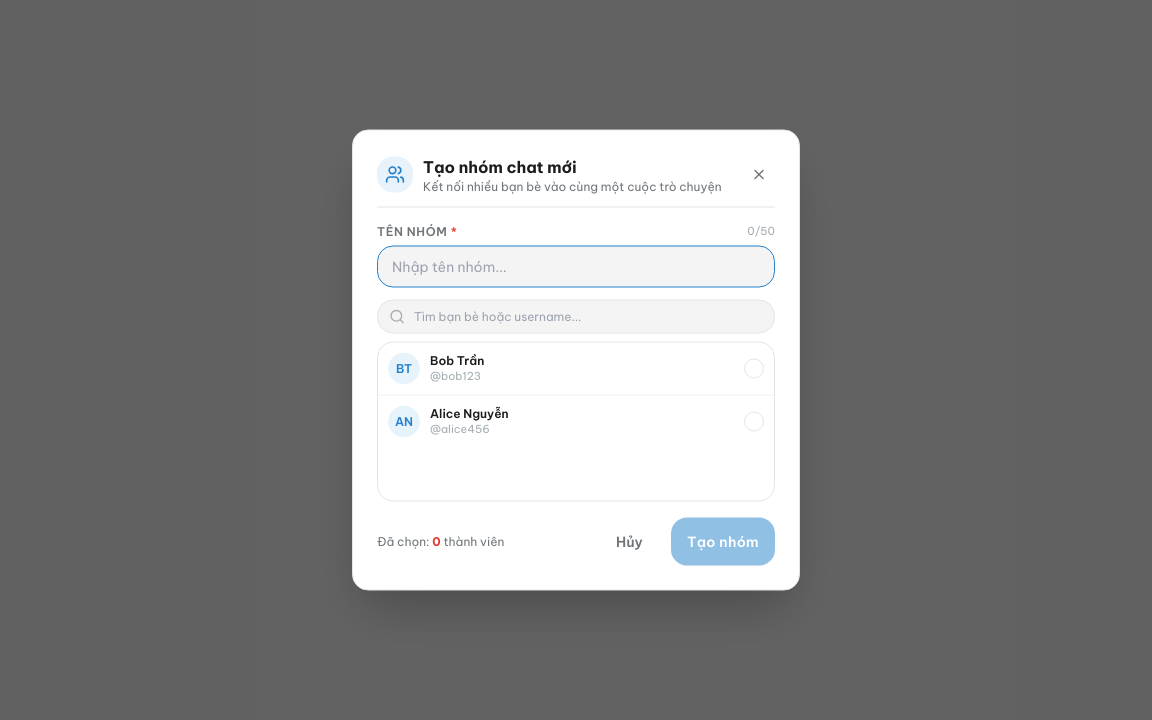
Test case: CreateGroupModal Component Tests › toggles member selection and displays selected member chips
The image size is (1152, 720).
# Click candidate
Click the element with test id "candidate-user-friend-1". click: (404, 368)
box: [378,342,774,394]
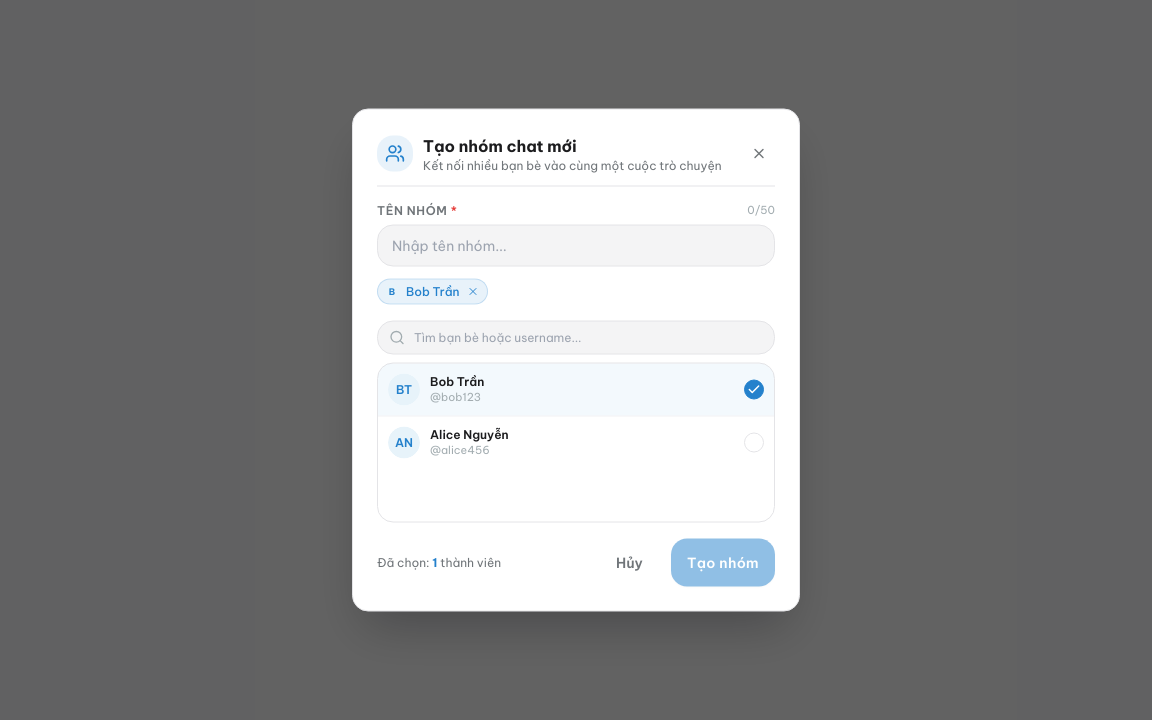
Expected: the element with test id "selected-chip-friend-1" is shown, [377,278,488,304]
# Click remove on chip
Click the button named "Gỡ Bob Trần". click: (474, 292)
box: [468,286,480,298]
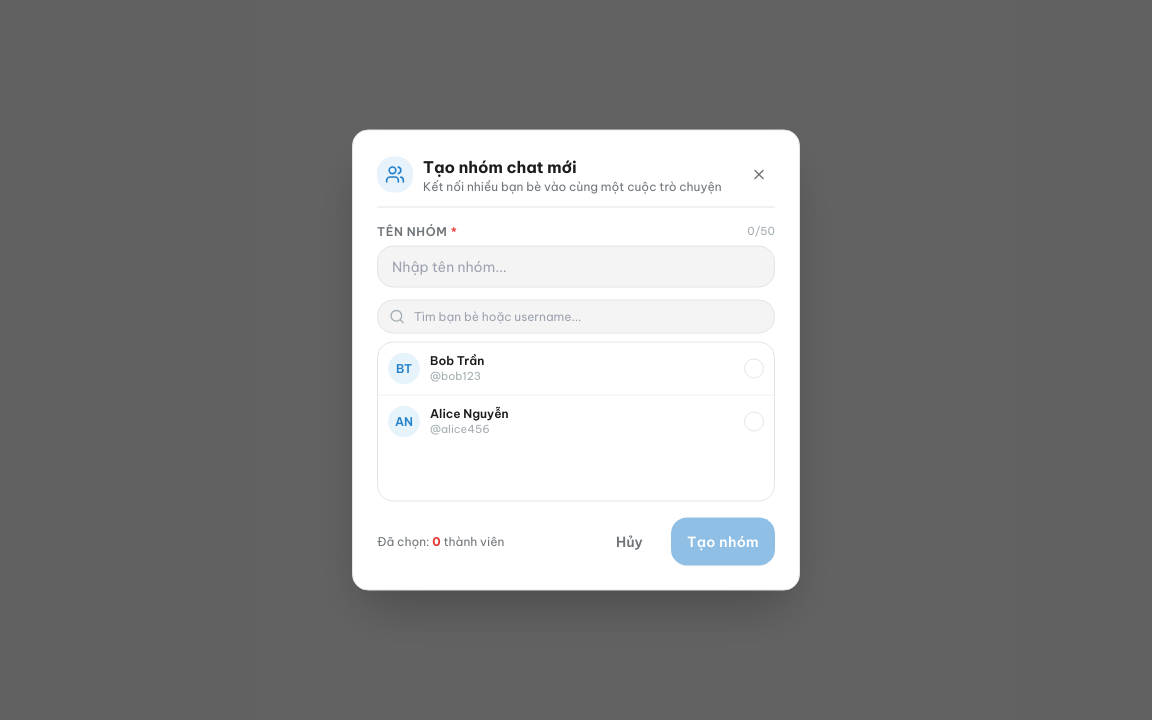
Expected: the element with test id "selected-chip-friend-1" is gone
